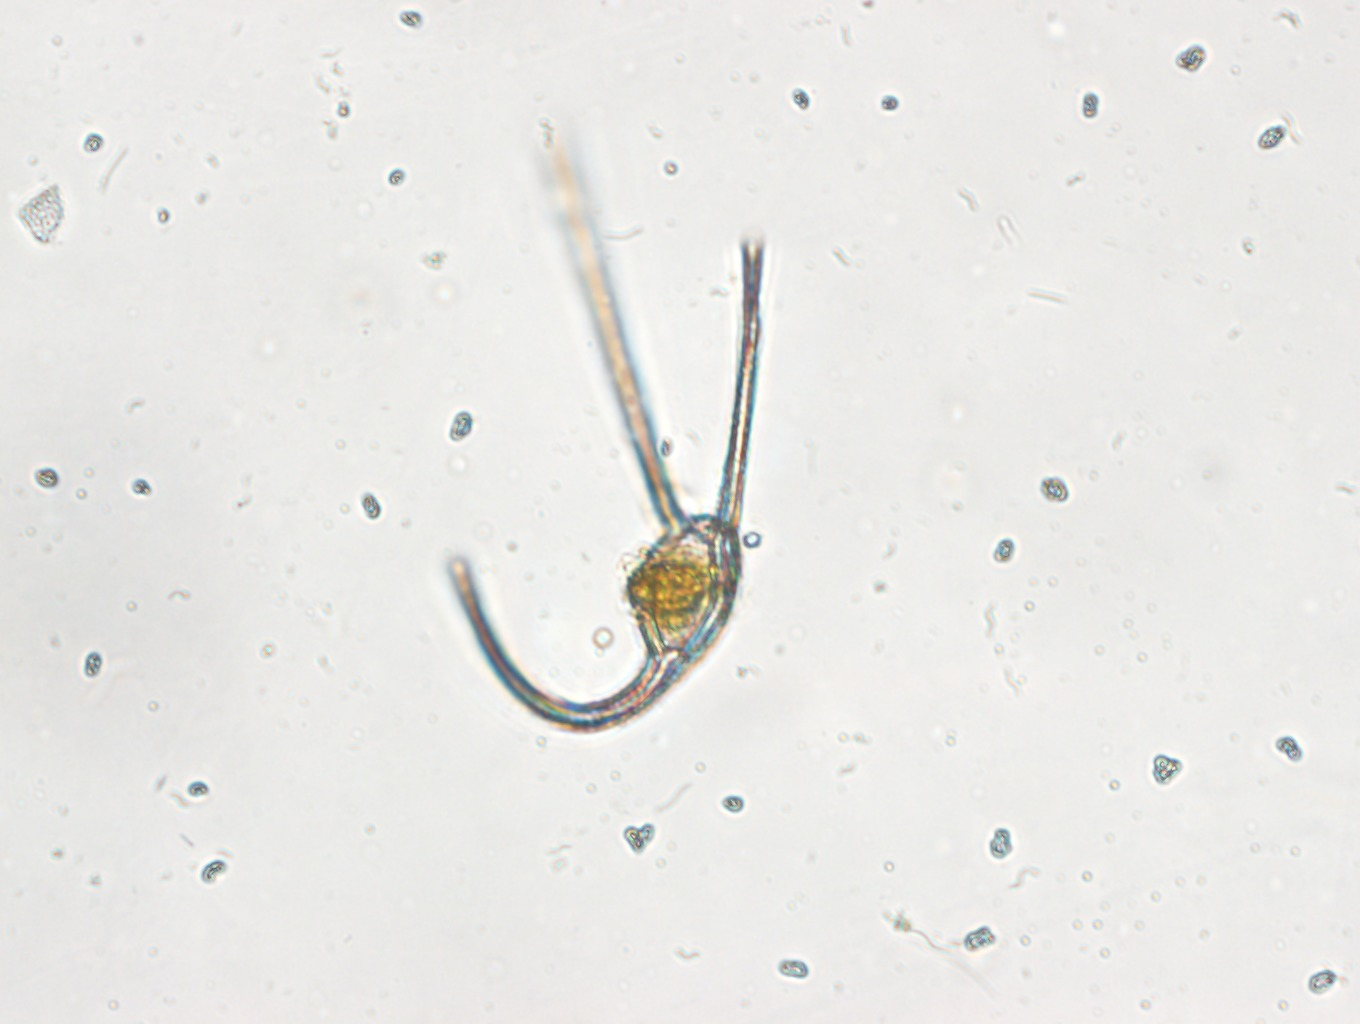ceratium trichoceros: (428, 116, 778, 739)
